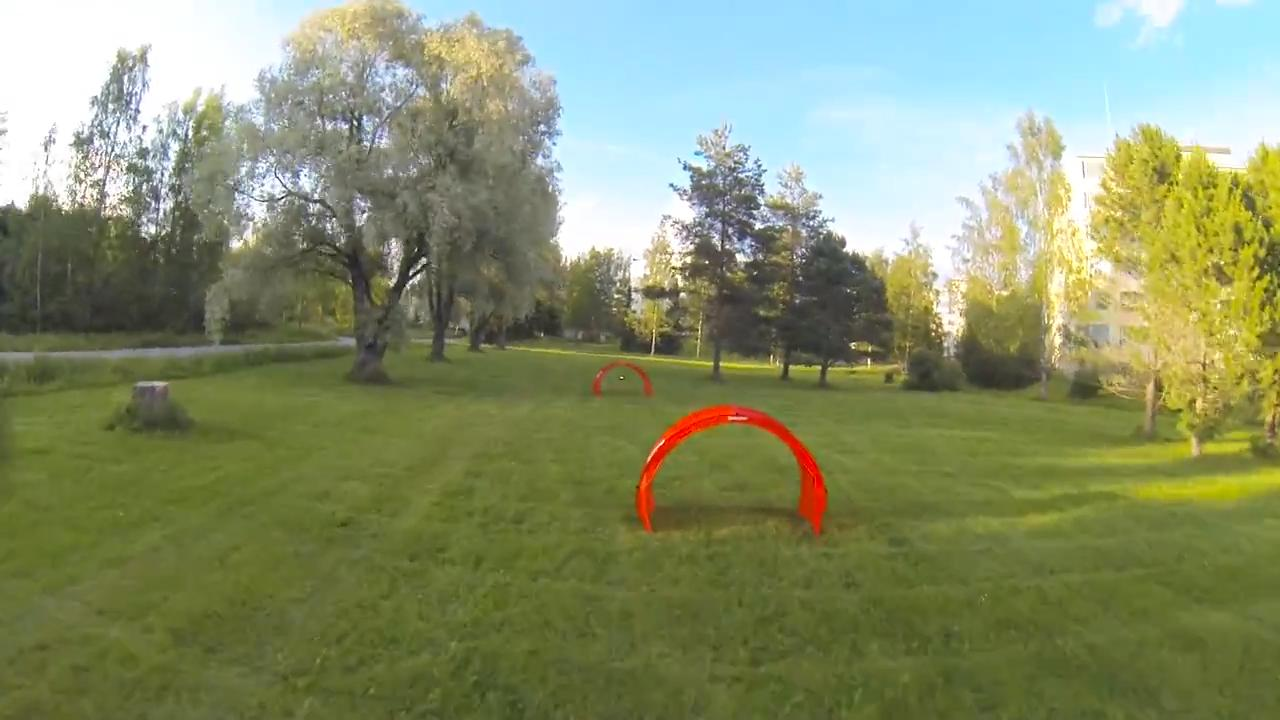gate: (624, 404, 827, 535)
